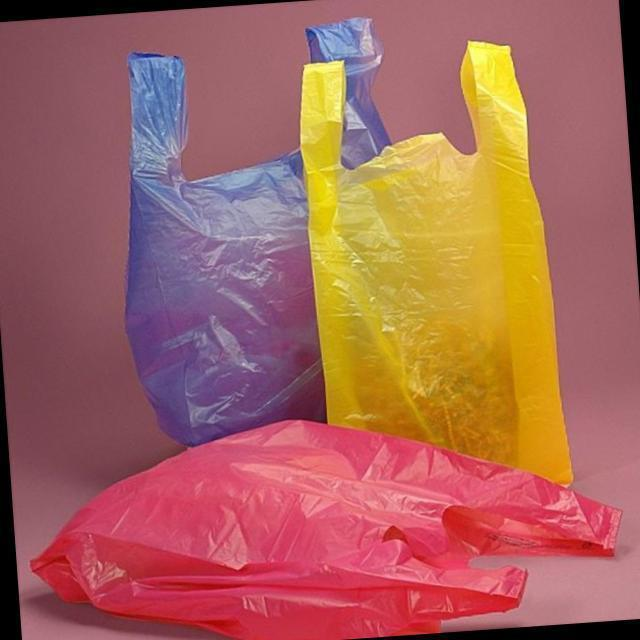Plastic_Bag: (290, 35, 588, 498)
